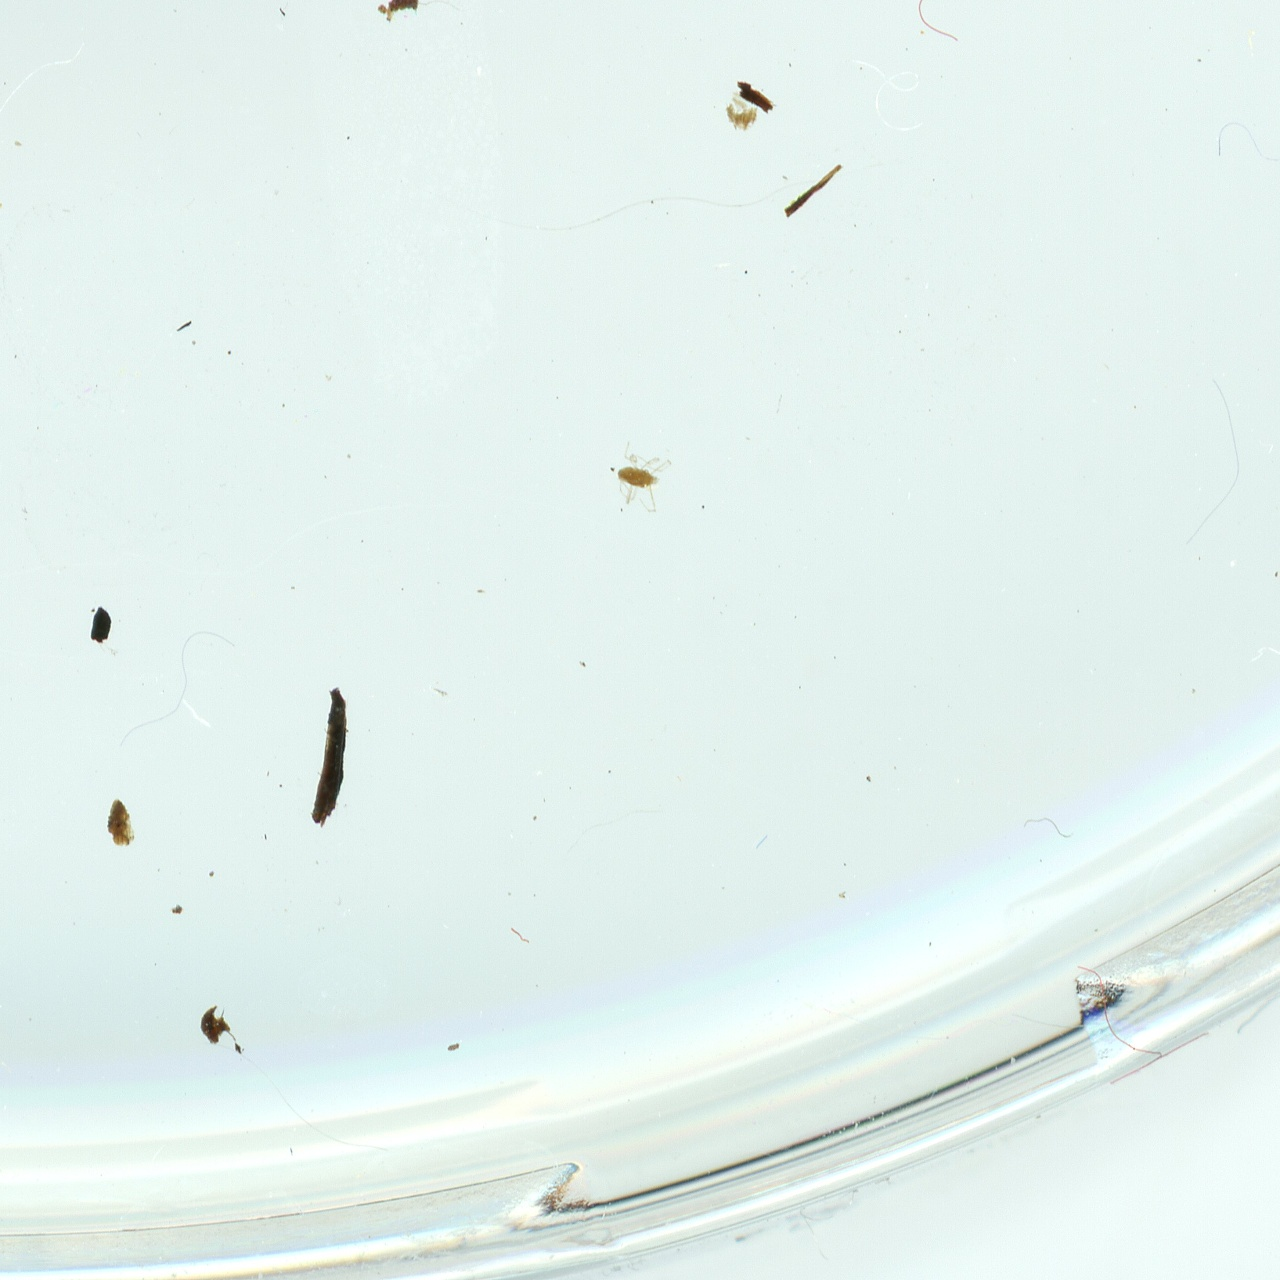arthropod: (608, 438, 676, 517)
